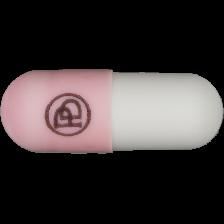54868-1486: (0, 0, 224, 224)
